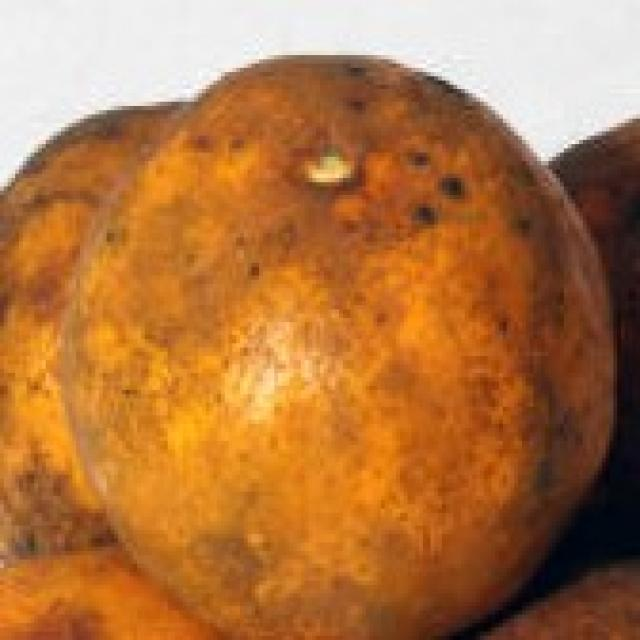overripe: (53, 42, 619, 640)
